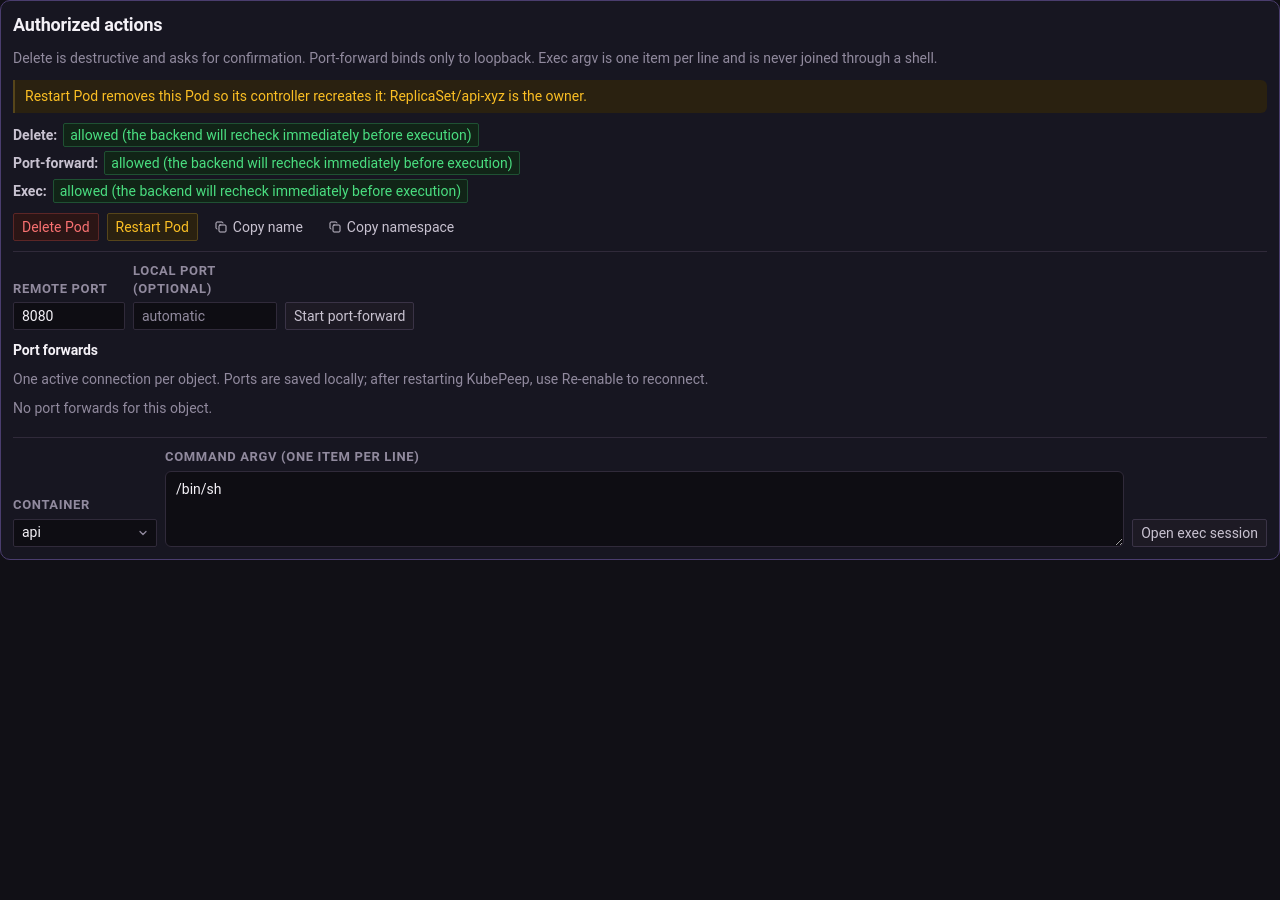
it: generation-bound authorized actions › opens exec only from an ephemeral ticket, echoes heartbeat, and closes on generation change
This screenshot has width=1280, height=900.
What coordinates should you click on to do the following:
click the button "Start port-forward"
I would click on:
 (350, 316)
Its box is [285,302,414,330].
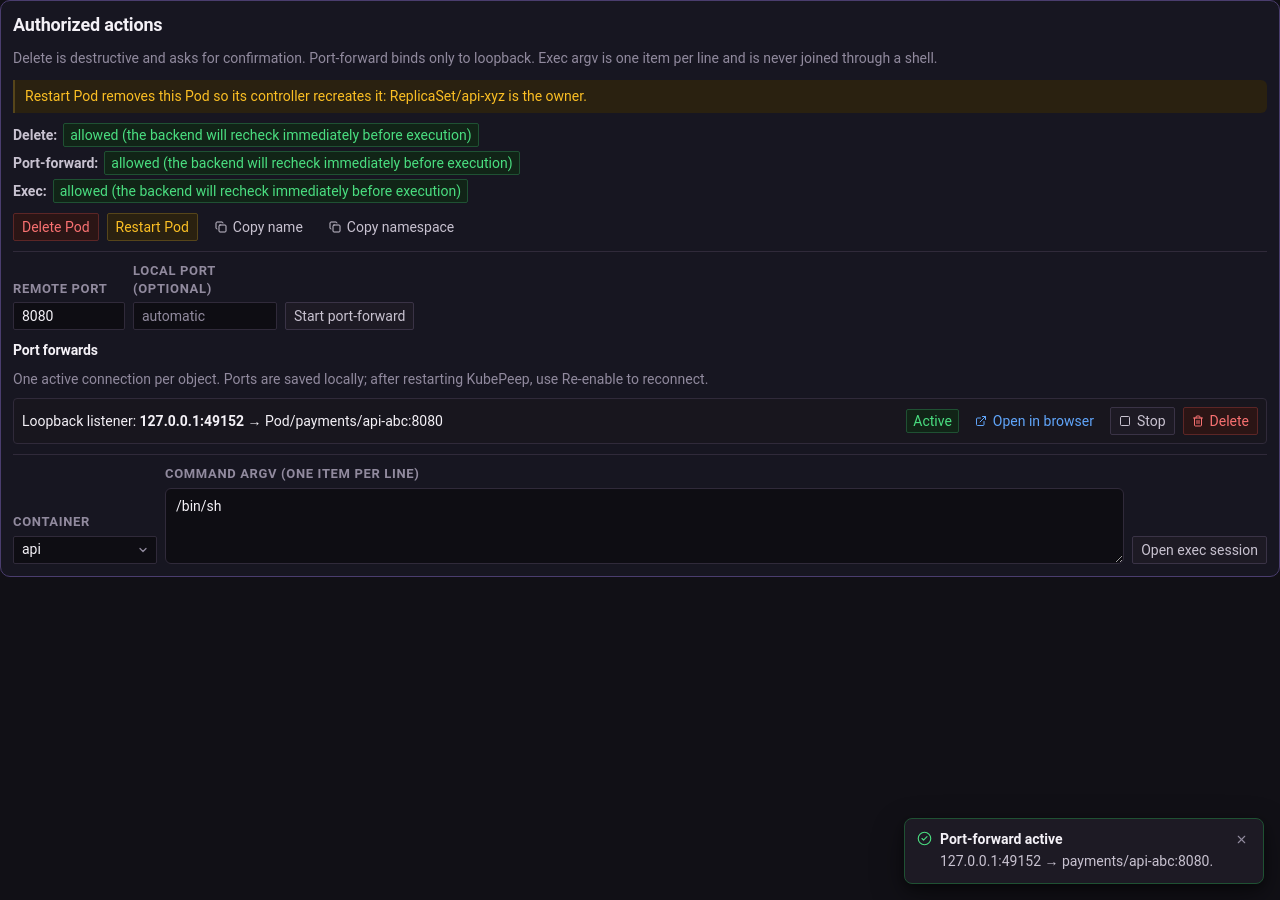
Expected: the text "Loopback listener:" shows "127.0.0.1:49152", [22,413,443,429]
What coordinates should you click on to do the following:
click the button "Open exec session"
I would click on:
 (1200, 550)
Its box is [1132,536,1267,564].
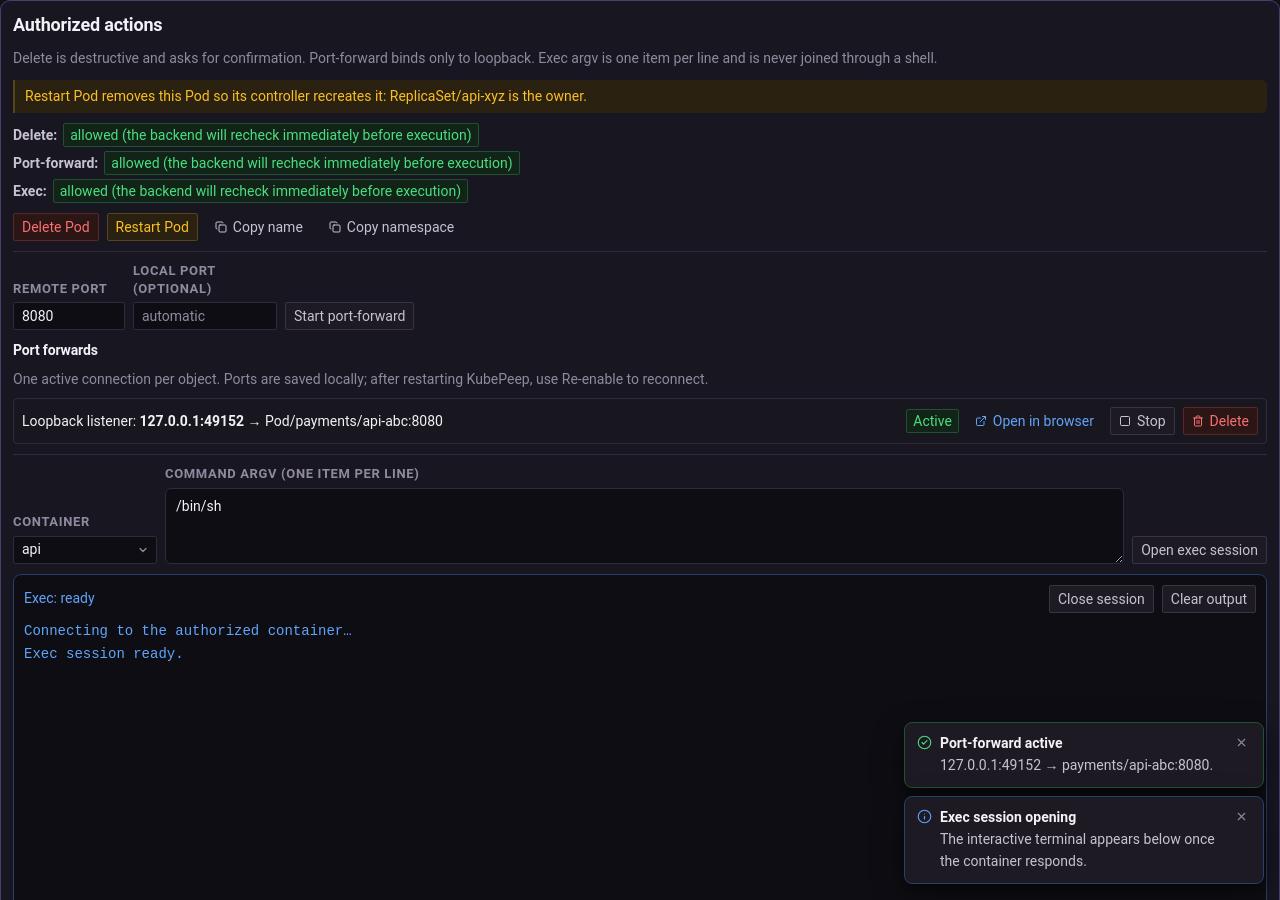
Expected: the list item "Exec session ready." is shown, [24,646,184,662]
